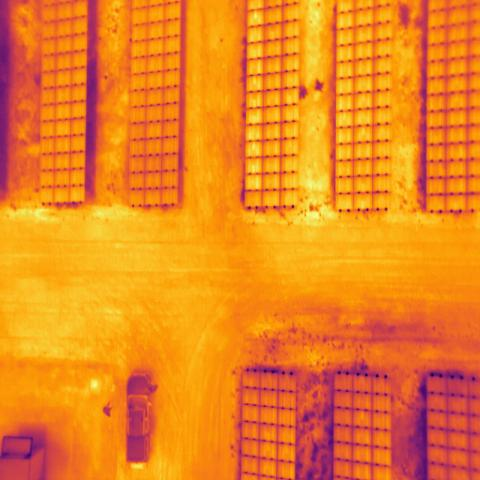fault: (245, 156, 263, 192)
